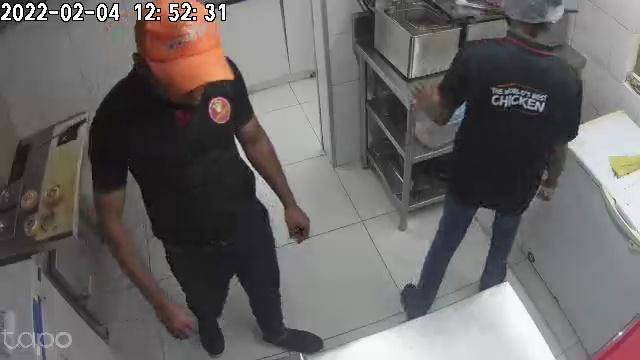no_gloves: (278, 191, 312, 241)
